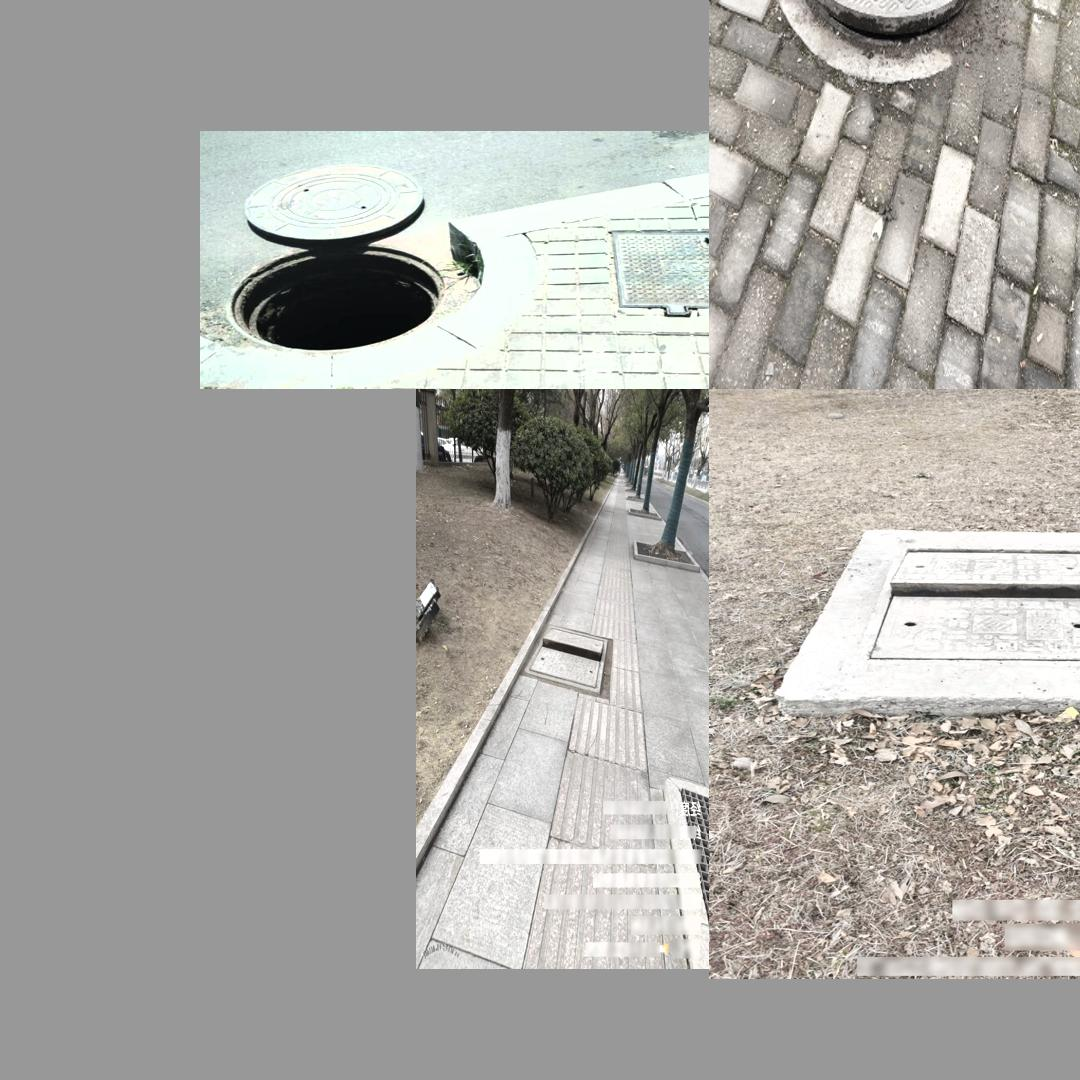uncovered: (219, 152, 452, 355), (861, 546, 1080, 666), (769, 0, 1013, 82), (525, 625, 610, 695)
